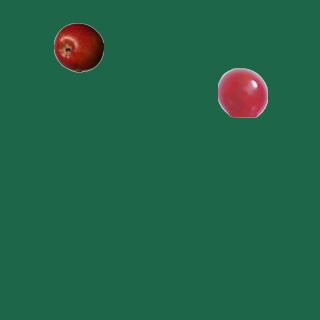Apple Braeburn: (53, 22, 103, 72)
Redcurrant: (217, 67, 267, 117)
